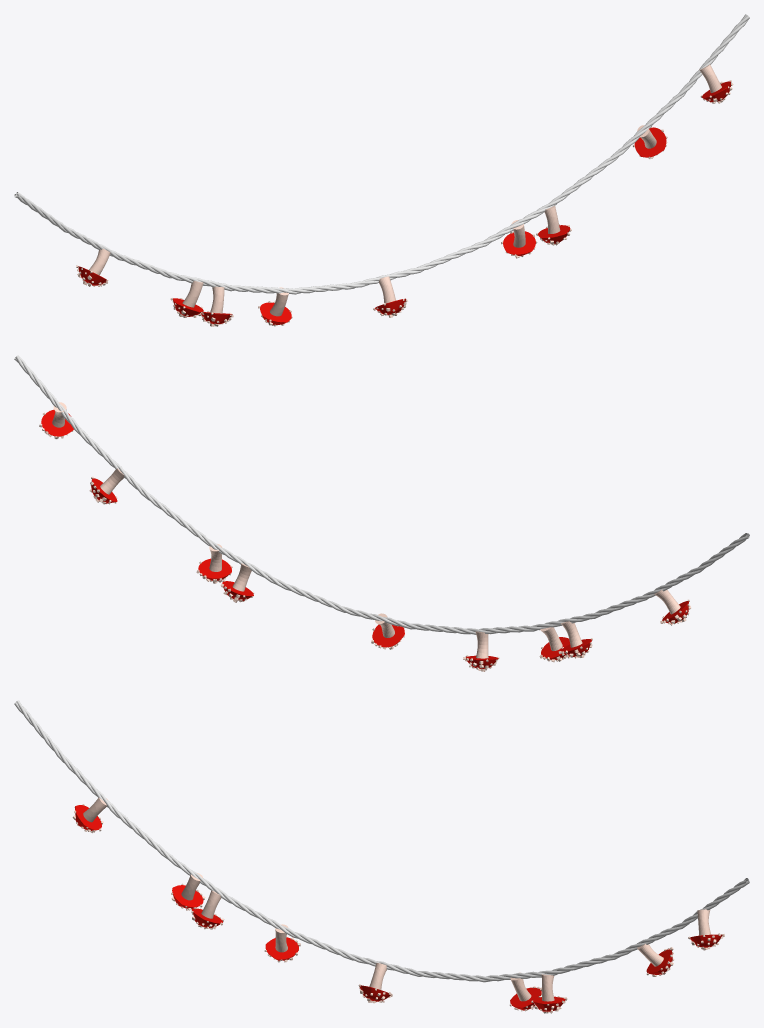
Rendered from MushroomLights.fbx.
3 views of the same model, one above another, from view 1: azimuth 30°, elevation 25°; view 2: azimuth 150°, elevation 25°; view 3: azimuth 330°, elevation 25° (orthographic).
Visible parts, largest first — view 1: BezierCurve, Stem.001, Stem.003, Stem.005, Stem.002, Stem.004, Stem.007, Stem, Stem.008, Stem.006; view 2: BezierCurve, Stem.002, Stem, Stem.004, Stem.001, Stem.003, Stem.005, Stem.007, Stem.008, Stem.006; view 3: BezierCurve, Stem.005, Stem.007, Stem.008, Stem.003, Stem.006, Stem.002, Stem.004, Stem.001, Stem.
Part boxes in pixels (left/top/right/bottom): BezierCurve: left=14, top=14, right=749, bottom=294; Stem.001: left=501, top=220, right=537, bottom=258; Stem.003: left=633, top=125, right=667, bottom=158; Stem.005: left=258, top=287, right=292, bottom=326; Stem.002: left=536, top=205, right=571, bottom=245; Stem.004: left=699, top=64, right=733, bottom=103; Stem.007: left=170, top=281, right=204, bottom=317; Stem: left=373, top=276, right=407, bottom=317; Stem.008: left=76, top=248, right=110, bottom=286; Stem.006: left=201, top=286, right=233, bottom=326; BezierCurve: left=14, top=355, right=749, bottom=634; Stem.002: left=196, top=544, right=232, bottom=583; Stem: left=371, top=613, right=404, bottom=649; Stem.004: left=39, top=402, right=73, bottom=439; Stem.001: left=221, top=563, right=253, bottom=602; Stem.003: left=89, top=468, right=124, bottom=504; Stem.005: left=463, top=631, right=499, bottom=671; Stem.007: left=558, top=621, right=592, bottom=658; Stem.008: left=654, top=589, right=691, bottom=625; Stem.006: left=539, top=627, right=569, bottom=662; BezierCurve: left=14, top=700, right=749, bottom=982; Stem.005: left=264, top=924, right=300, bottom=962; Stem.007: left=171, top=872, right=205, bottom=910; Stem.008: left=72, top=797, right=107, bottom=833; Stem.003: left=637, top=944, right=674, bottom=976; Stem.006: left=191, top=890, right=224, bottom=929; Stem.002: left=531, top=974, right=567, bottom=1013; Stem.004: left=688, top=909, right=724, bottom=950; Stem.001: left=509, top=972, right=541, bottom=1011; Stem: left=358, top=963, right=392, bottom=1003.
Bounding box in the file's own units: 2009 × 543 × 133.
